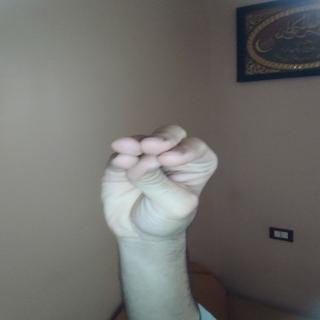HA: (92, 120, 227, 268)
